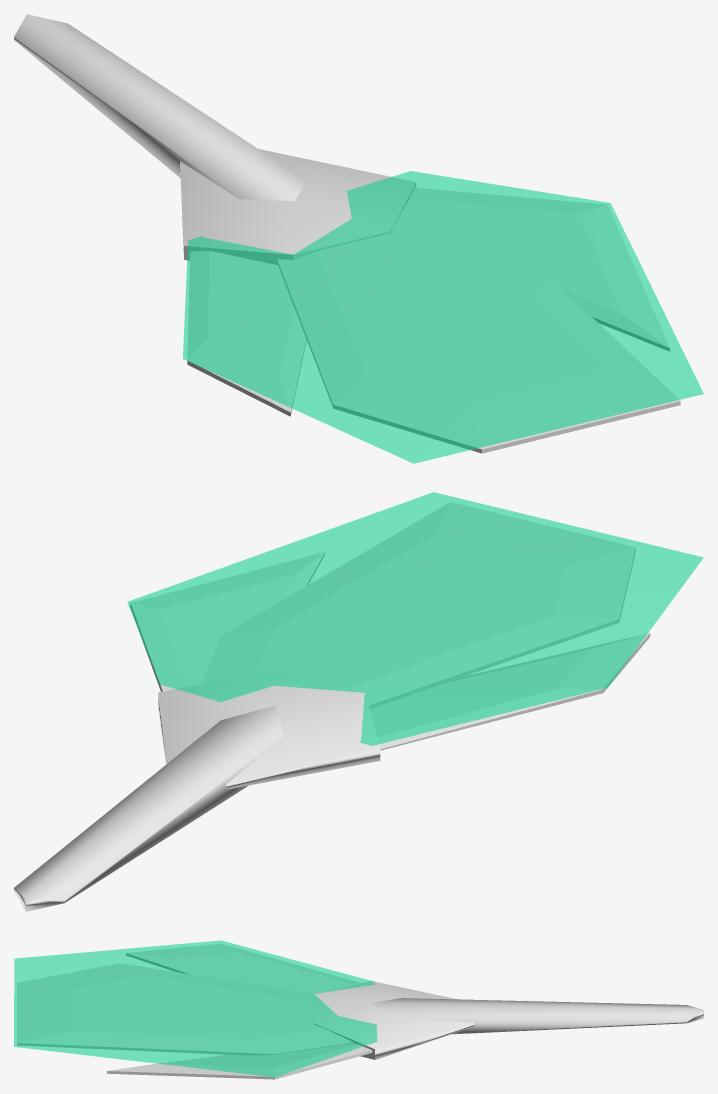
Rendered from Looking Glass.fbx.
The picture shows the model from 3 angles, top to bottom: view 1: azimuth 30°, elevation 25°; view 2: azimuth 150°, elevation 25°; view 3: azimuth 270°, elevation 25°; orthographic projection. The views are drawn at different scales.
Visible parts, largest first — view 1: lookingGlass_renderMask, blades, handle; view 2: lookingGlass_renderMask, blades, handle; view 3: lookingGlass_renderMask, blades, handle.
Part boxes in pixels (x1,y1,x2,y2): lookingGlass_renderMask: (183,171,703,463); blades: (187,188,680,453); handle: (14,14,415,264); lookingGlass_renderMask: (127,492,703,745); blades: (130,502,650,750); handle: (14,671,380,911); lookingGlass_renderMask: (14,940,377,1077); blades: (17,944,372,1079); handle: (314,981,703,1059).
Bounding box in the file's own units: 14.13 × 1.33 × 28.91.
